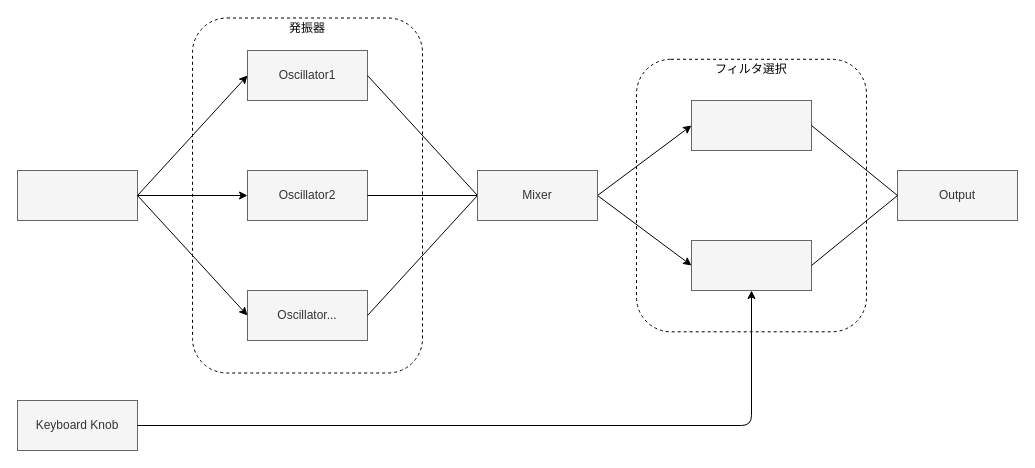
The diagram is 1035 pixels wide and 468 high, and some of its shapes have lost their labels. Each missing label, with the centre of its shape:
"Bypass" goes at point 751,125.
"Keyboard" goes at point 77,195.
"LPF/HPF/BPF" goes at point 751,265.
